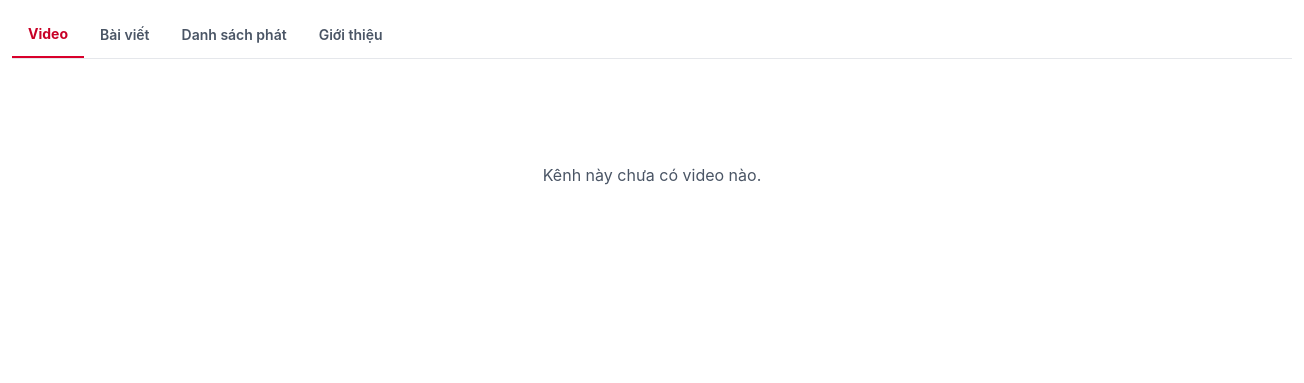
PL1-web: Playlists & Watch Later Unit Tests (ADR-024) › 6. Channel Tab Playlists › fetches and lists only what listChannelPlaylists returns when tab is selected
Check: the text "Playlist Kênh 1" is not shown
Click "Danh sách phát" tab
Click the button with test id "tab-channel-playlists".
click(234, 35)  # box [166,12,303,58]
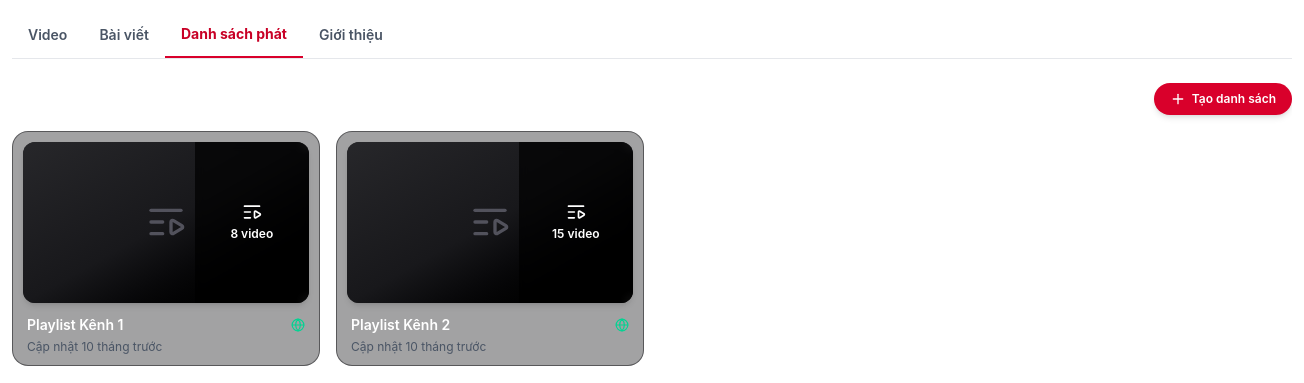
Check: the heading "Playlist Kênh 1" is shown, box [27,315,123,335]
Check: the heading "Playlist Kênh 2" is shown, box [351,315,450,335]
